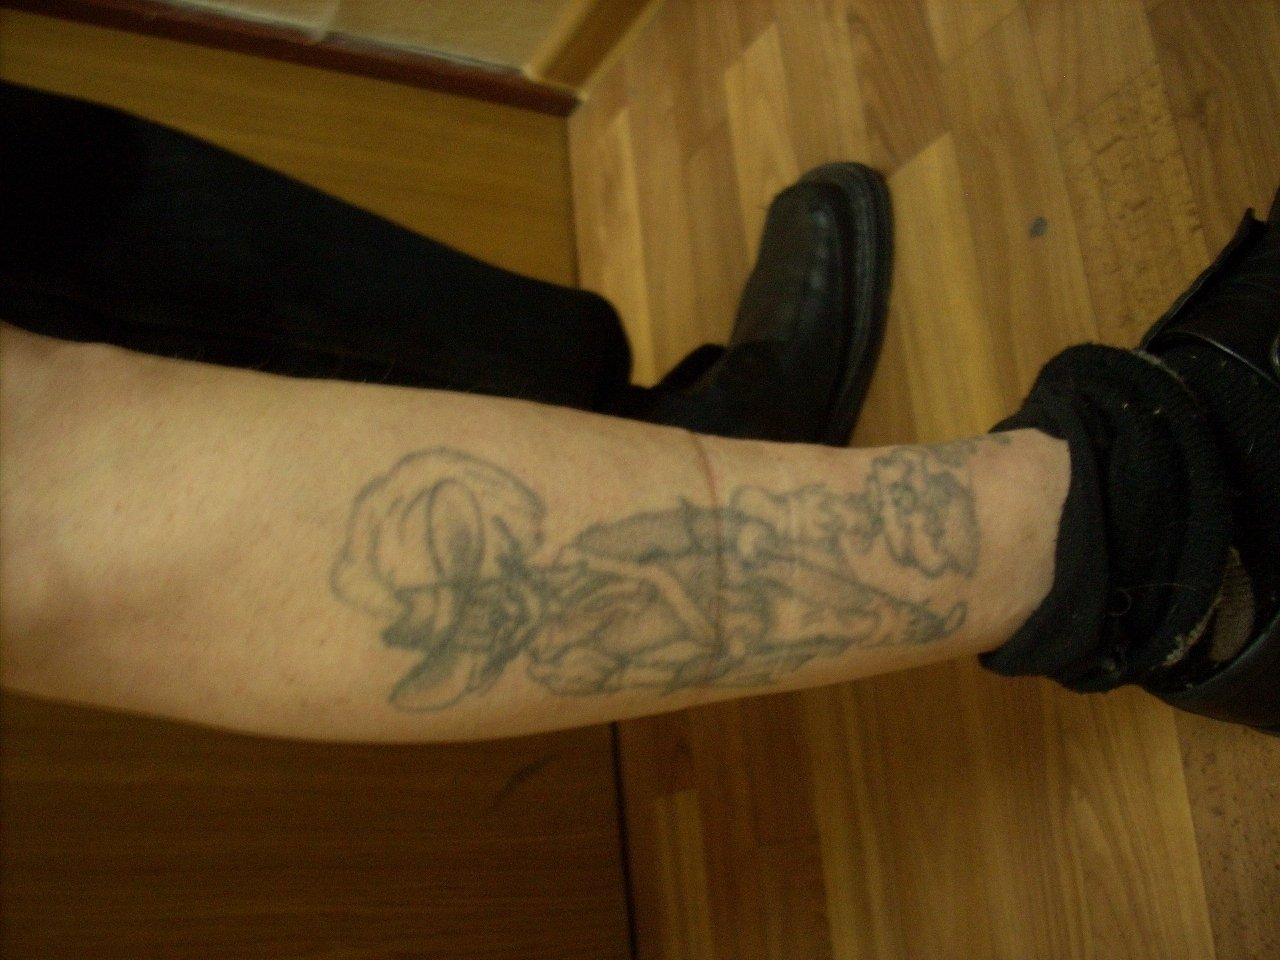tatu8_kot: (350, 435, 1011, 699)
